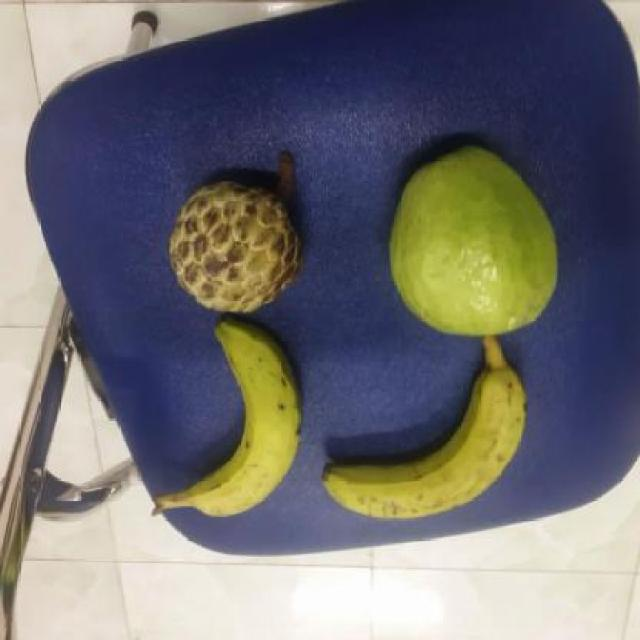banana: (315, 349, 534, 516), (166, 314, 305, 526)
guava: (372, 143, 565, 343)
sugar apple: (167, 178, 302, 318)
